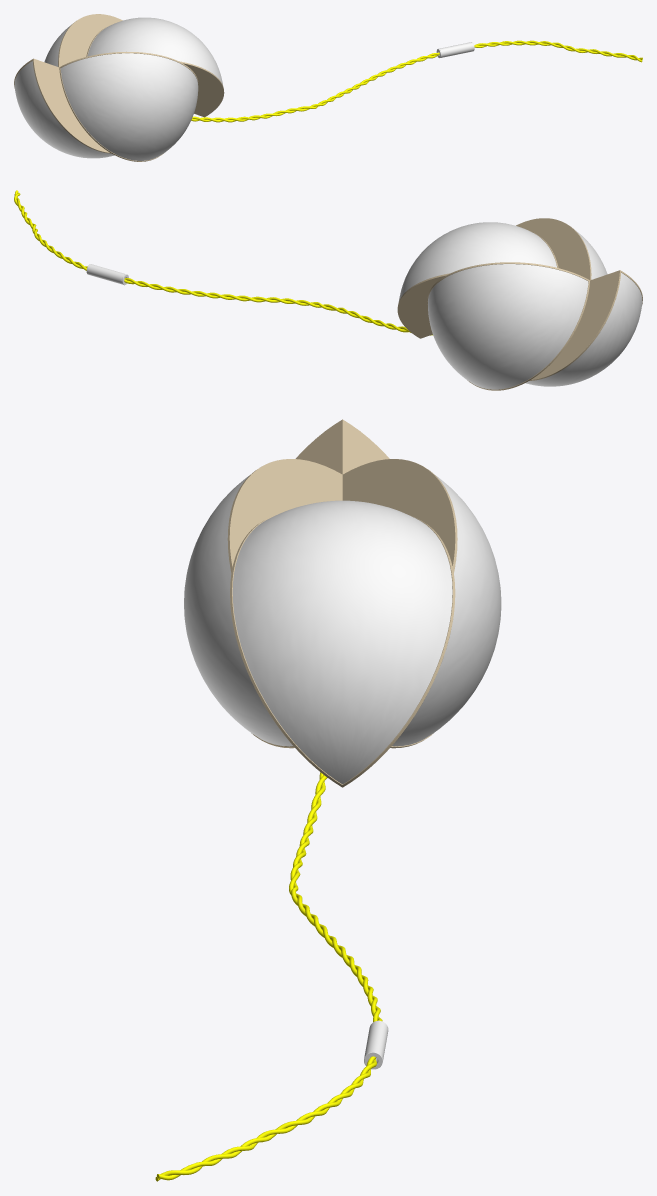
Rendered from designconnected-collision-table-lights-9775.optimized.glb.
3 views of the same model, one above another, from view 1: azimuth 30°, elevation 25°; view 2: azimuth 150°, elevation 25°; view 3: azimuth 270°, elevation 25° (orthographic). The views are drawn at different scales.
Visible parts, largest first — view 1: Lara_Bohinc_Collision_L_table_mat1; view 2: Lara_Bohinc_Collision_L_table_mat1; view 3: Lara_Bohinc_Collision_L_table_mat1.
Part boxes in pixels (<box>): Lara_Bohinc_Collision_L_table_mat1: <box>14,14,642,161</box>; Lara_Bohinc_Collision_L_table_mat1: <box>14,190,642,390</box>; Lara_Bohinc_Collision_L_table_mat1: <box>155,419,501,1181</box>.
Size of the model in its own units: 1.46 by 0.2762 by 0.3812.
